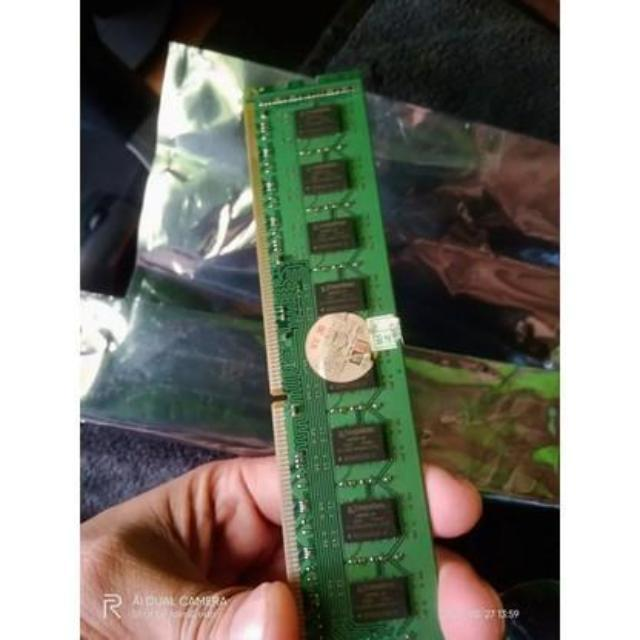RAM: (240, 62, 446, 640)
